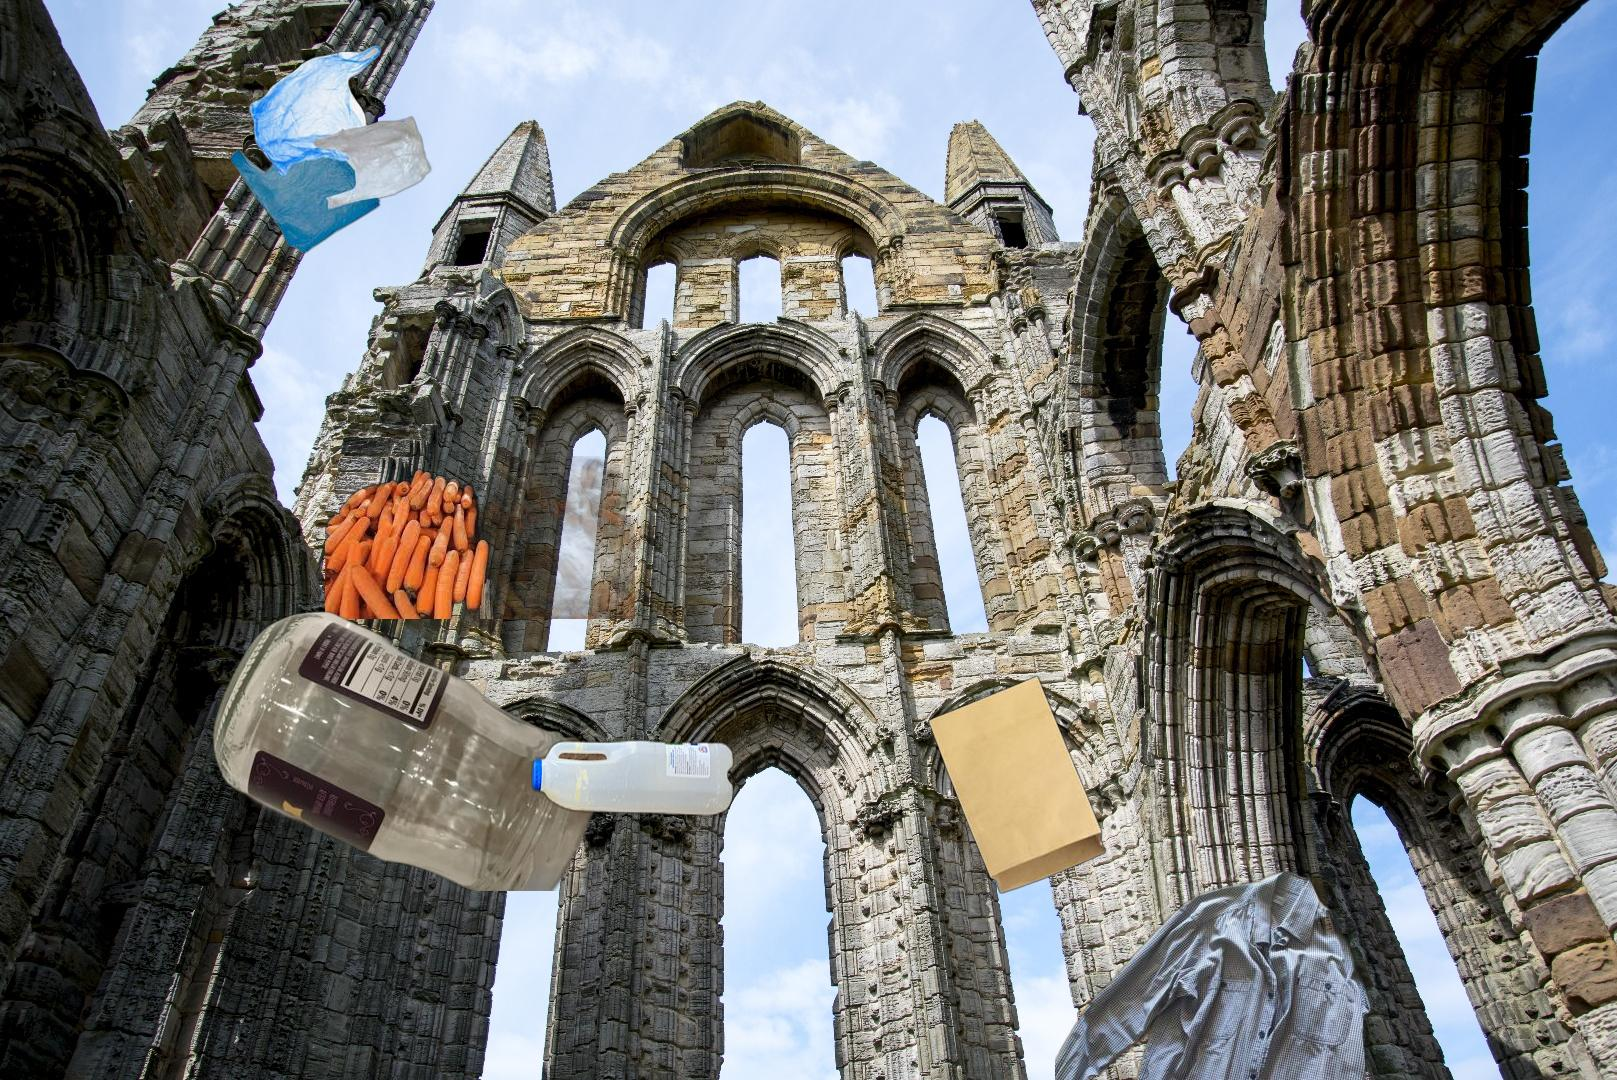biological: (325, 456, 635, 620)
clothes: (1056, 867, 1374, 1080), (1082, 1067, 1390, 1080)
glass: (208, 609, 608, 891)
paper-bag: (925, 614, 1177, 896)
plastic-bag: (227, 42, 434, 256)
plastic-bottles: (257, 734, 739, 1080)
